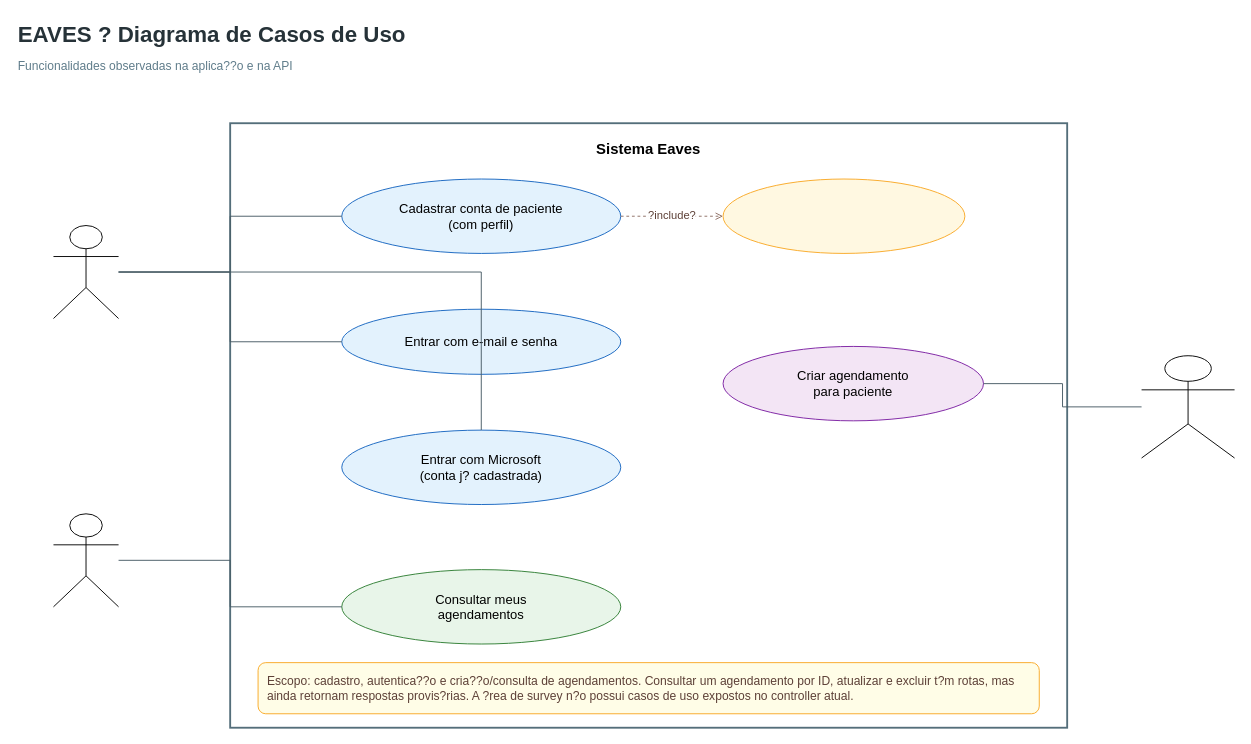
This 1251x744 diagram has some shape labels left out. Each missing label, with the centre of its shape:
"Enviar e-mail de boas-vindas" goes at point (843, 215).
"Paciente" goes at point (86, 560).
"Recepcionista (LOBBY)" goes at point (1188, 406).
"Visitante" goes at point (86, 272).
